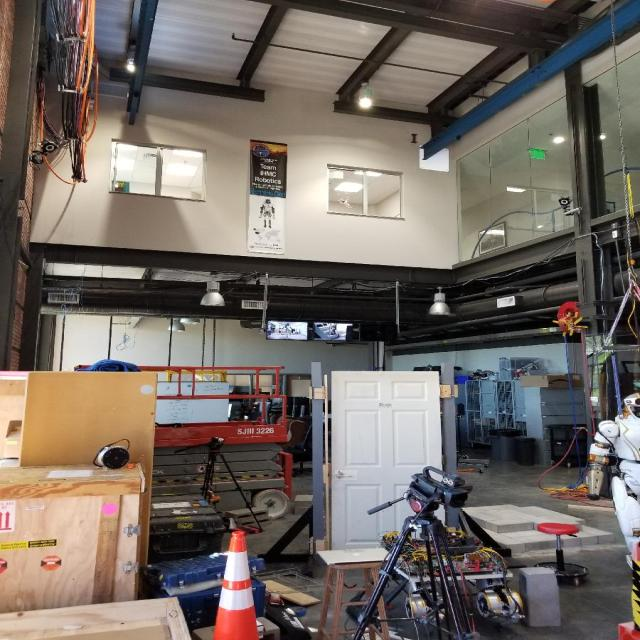doorhandle: (335, 470, 357, 480)
